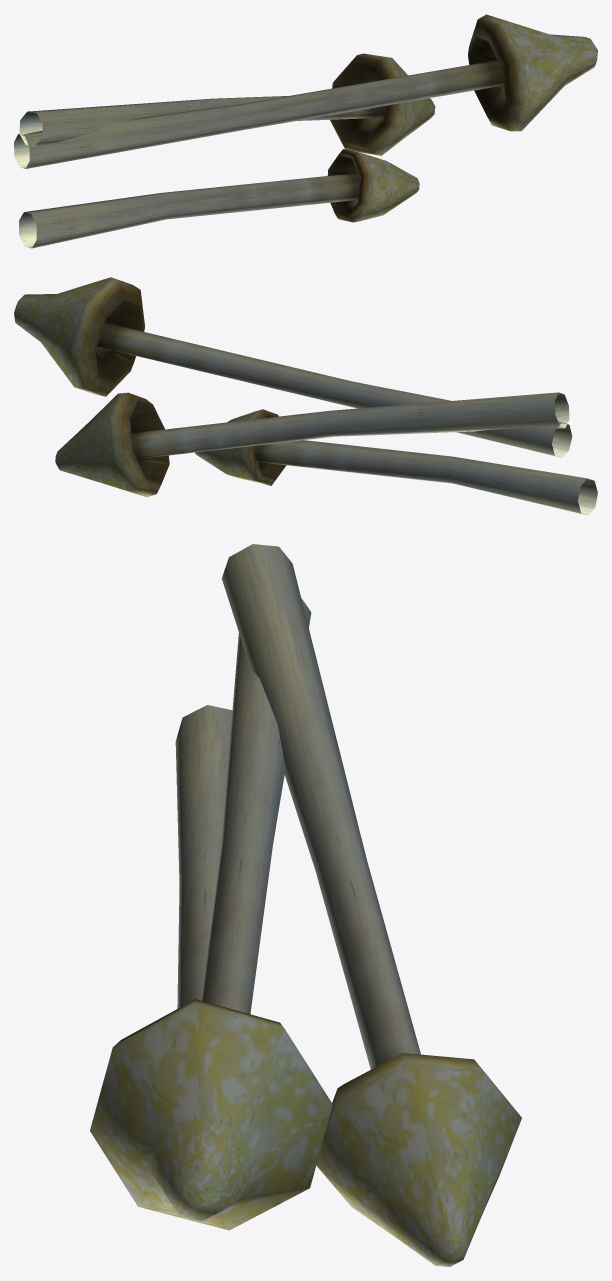
Rendered from 02_ING_mushroom_Liberty Cap.glb.
3 views of the same model, one above another, from view 1: azimuth 30°, elevation 25°; view 2: azimuth 150°, elevation 25°; view 3: azimuth 270°, elevation 25° (orthographic). The views are drawn at different scales.
Parts seen in each view (by area): view 1: 02_ING_mushroom_Liberty Cap; view 2: 02_ING_mushroom_Liberty Cap; view 3: 02_ING_mushroom_Liberty Cap.
Part boxes in pixels (bbox=[...]): 02_ING_mushroom_Liberty Cap: bbox=[14, 14, 597, 248]; 02_ING_mushroom_Liberty Cap: bbox=[14, 277, 597, 515]; 02_ING_mushroom_Liberty Cap: bbox=[90, 544, 521, 1266].
Size of the model in its own units: 0.1168 by 0.0336 by 0.0385.
1 material, 1 textured.
